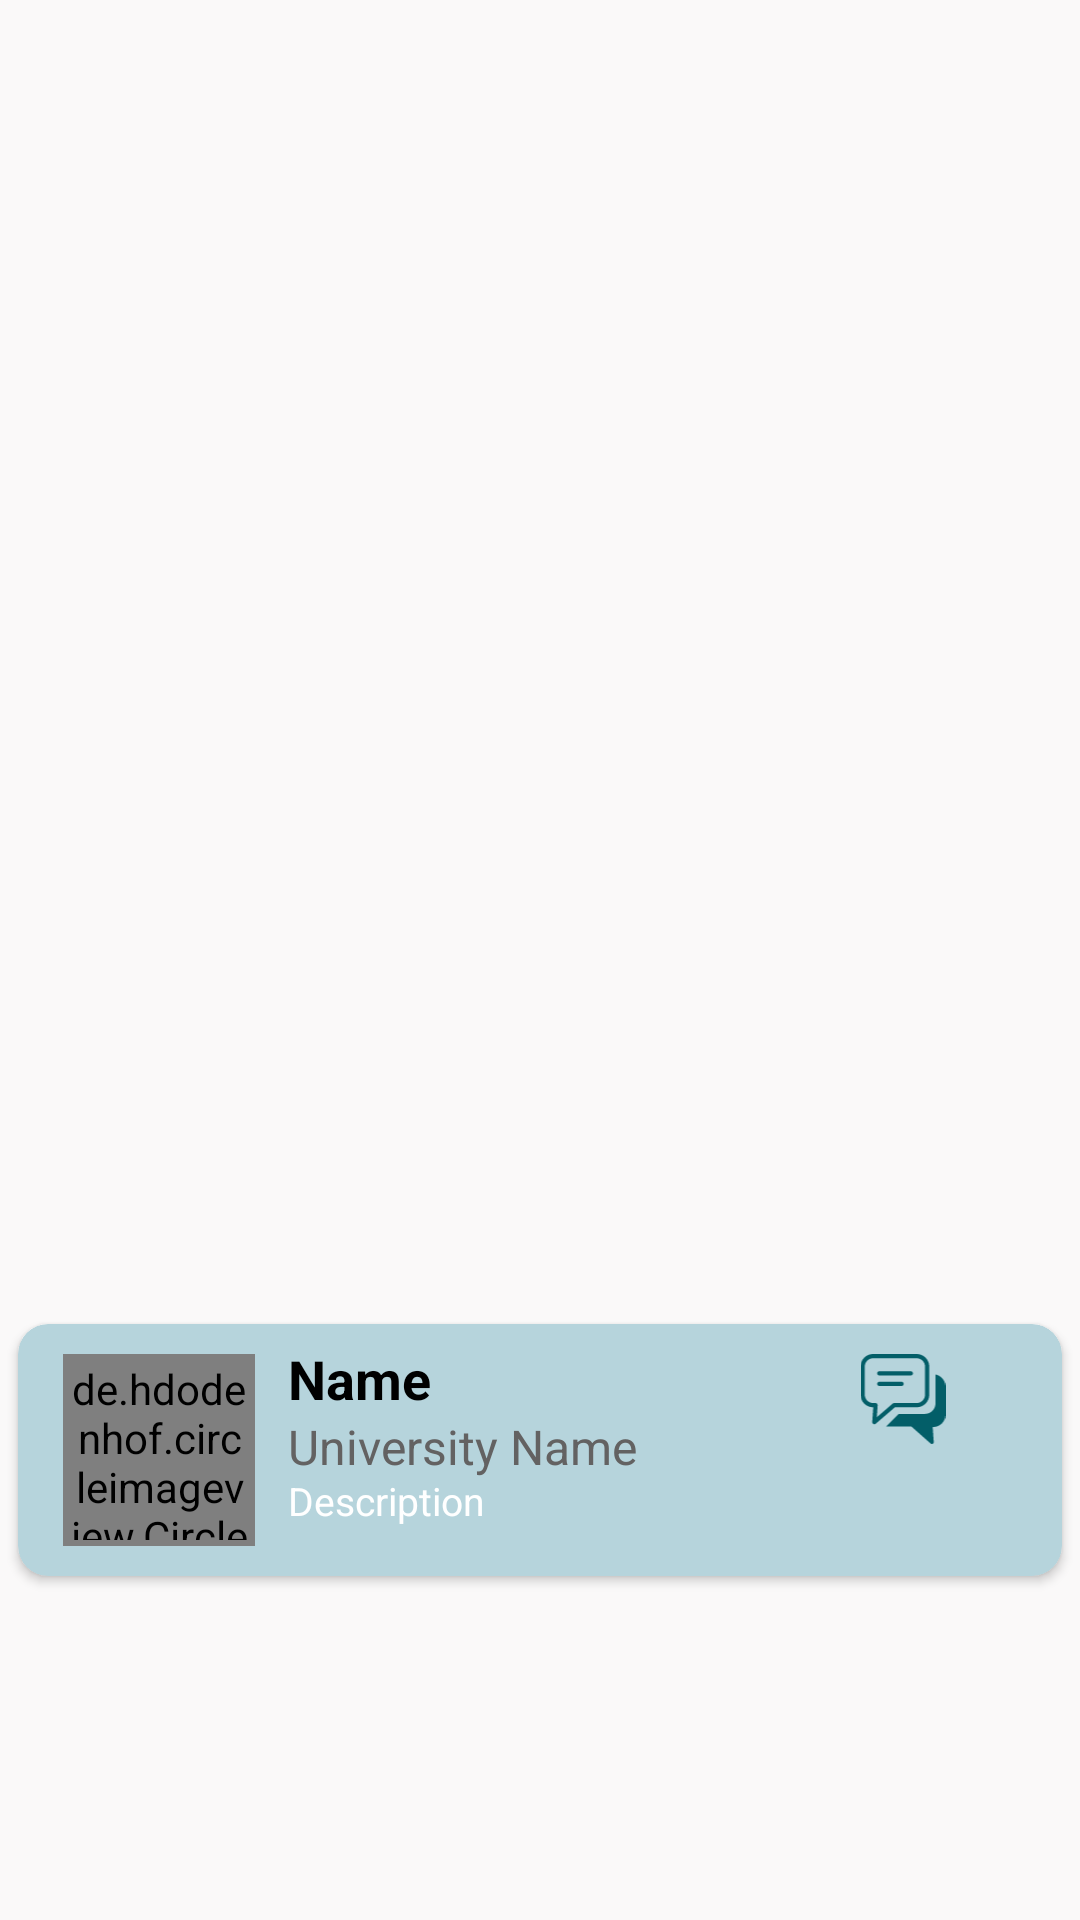

Where icons sit on this 1080x1920 app screen, as (x1, y1, x2, y2):
chat: (861, 1354, 946, 1444)
